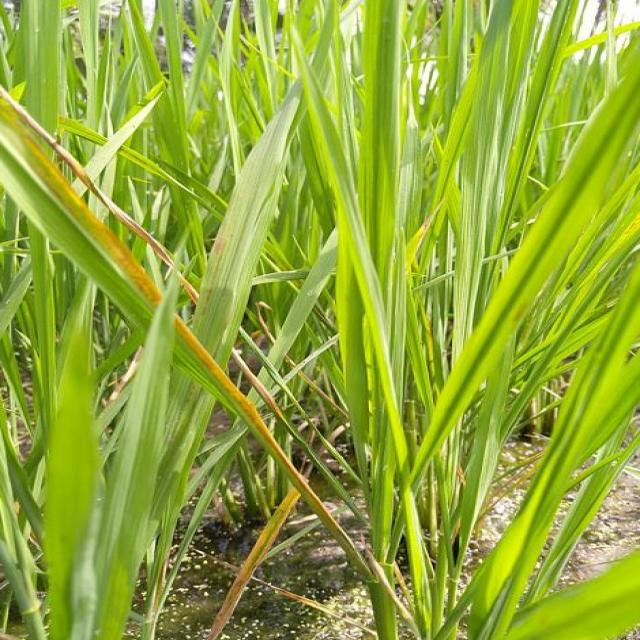Leaf Streak: (176, 319, 354, 556), (4, 92, 199, 306), (0, 115, 163, 309), (233, 351, 291, 429), (297, 371, 349, 417), (257, 303, 276, 346)
